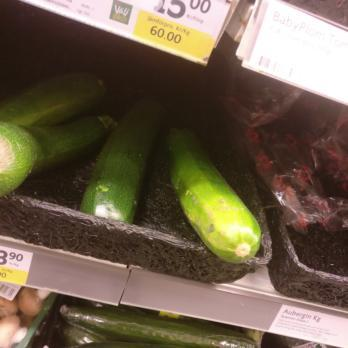Cucumber: (2, 60, 266, 267)
